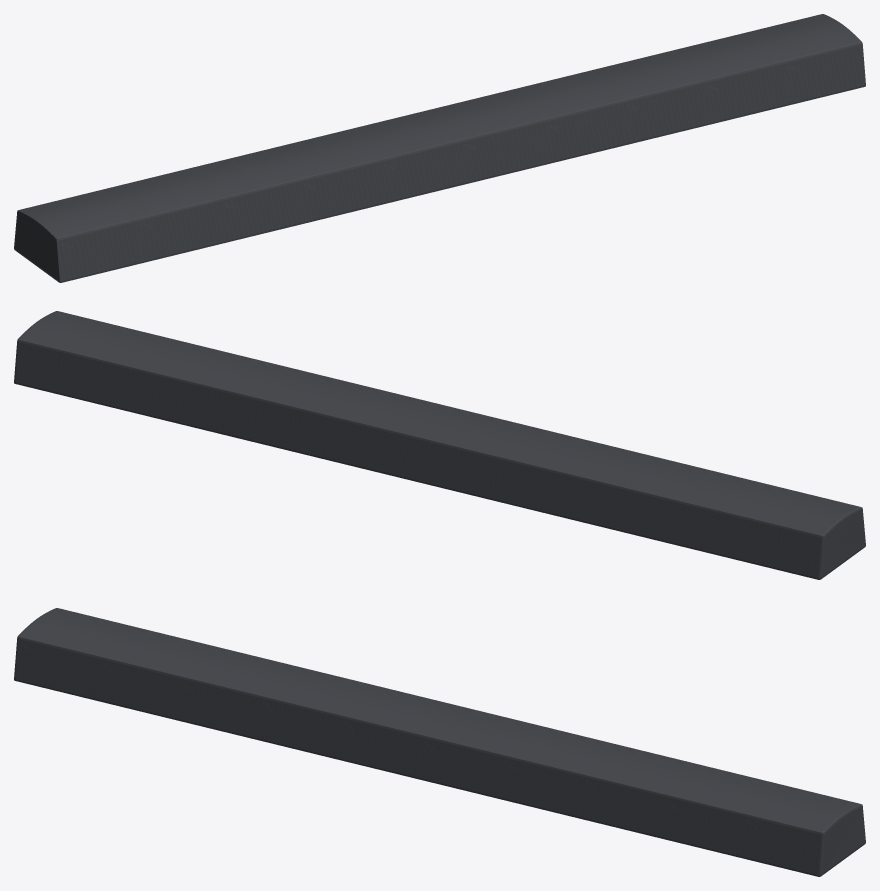
File: bed.obj
3 views of the same model, one above another, from view 1: azimuth 30°, elevation 25°; view 2: azimuth 150°, elevation 25°; view 3: azimuth 330°, elevation 25° (orthographic).
Visible parts, largest first — view 1: bed; view 2: bed; view 3: bed.
Part boxes in pixels (x1=…): bed: x1=14, y1=14, x2=865, y2=282; bed: x1=14, y1=311, x2=865, y2=579; bed: x1=14, y1=608, x2=865, y2=876.
Bounding box in the file's own units: 10 × 0.5398 × 0.9926.
2 materials, 2 textured.
